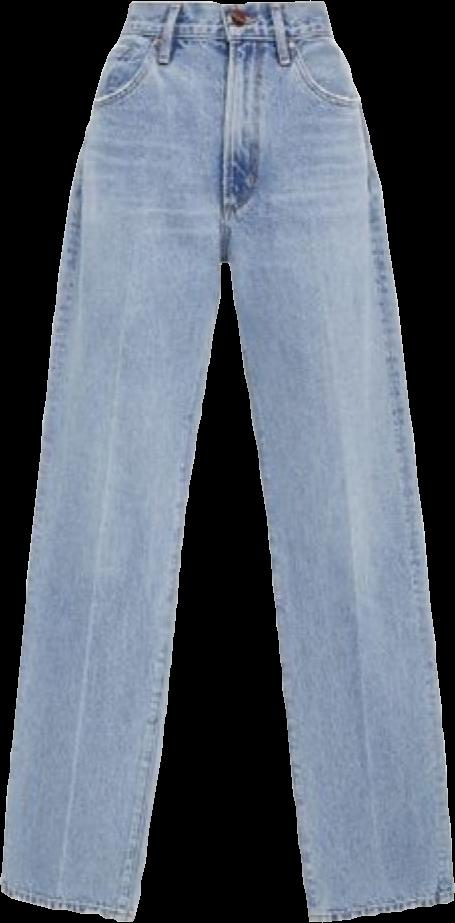Hemline: (0, 884, 138, 921), (308, 890, 454, 922)
Pantleg: (217, 0, 454, 920), (0, 1, 223, 920)
Waistline: (117, 25, 338, 41), (126, 0, 329, 10)
